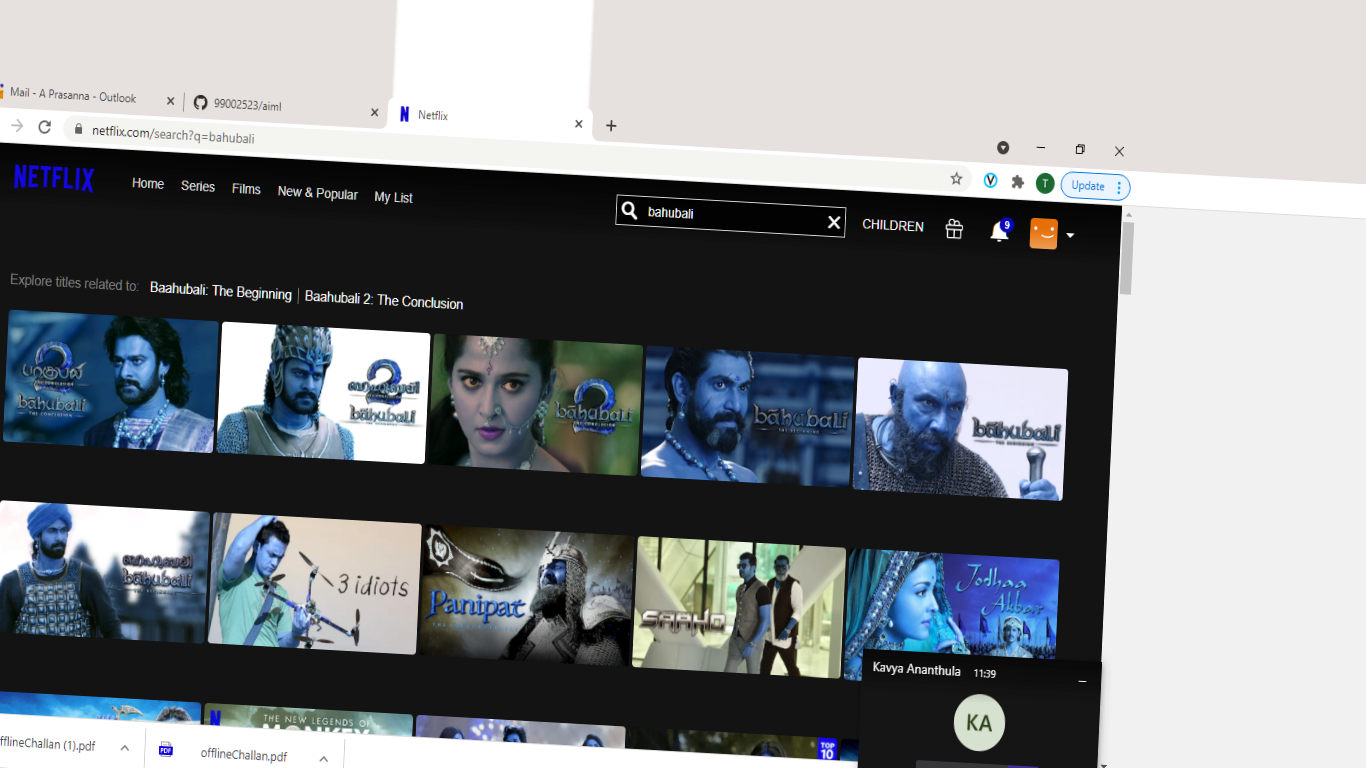mywatchlistbutton: (370, 181, 419, 219)
profileicon: (1012, 215, 1078, 264)
resultsfound: (7, 259, 475, 322)
searchicon: (615, 192, 638, 223)
searchtextbox: (612, 188, 852, 246)
